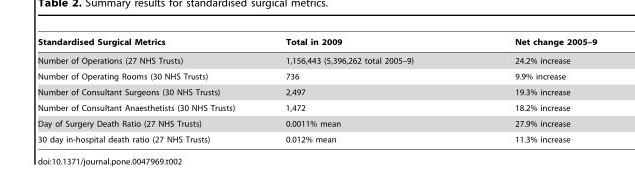table: (37, 37, 596, 143)
table column: (37, 37, 259, 143), (259, 37, 463, 143), (463, 37, 596, 143)
table column header: (37, 37, 596, 51)
table row: (37, 51, 596, 68), (37, 68, 596, 84), (37, 99, 596, 115), (37, 115, 596, 131), (37, 84, 596, 99), (37, 37, 596, 51), (37, 131, 596, 143)
